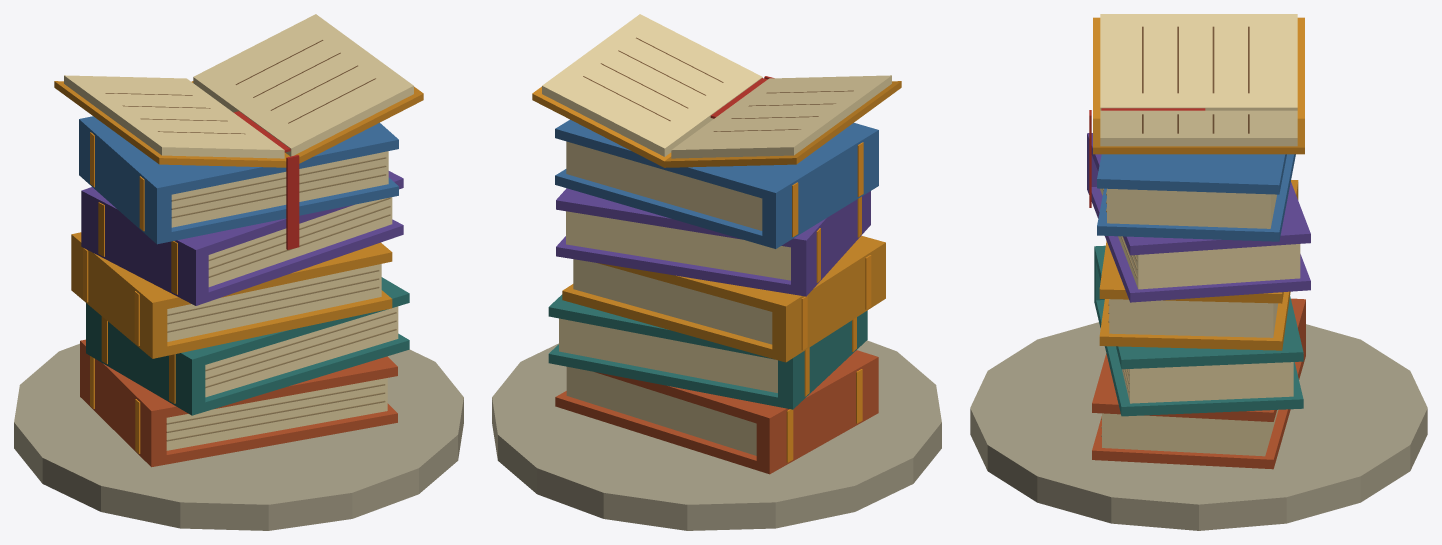
File: landmark_english.glb
3 renders of one model, left to right at view 1: azimuth 30°, elevation 25°; view 2: azimuth 150°, elevation 25°; view 3: azimuth 270°, elevation 25°, orthographic.
Parts seen in each view (by area): view 1: landmark_english; view 2: landmark_english; view 3: landmark_english.
Boxes of the visible parts, x1,y1,x2,y2 form: landmark_english: (14, 14, 463, 530); landmark_english: (492, 14, 941, 530); landmark_english: (970, 14, 1427, 530).
Bounding box in the file's own units: 2.2 × 1.9 × 2.2.
